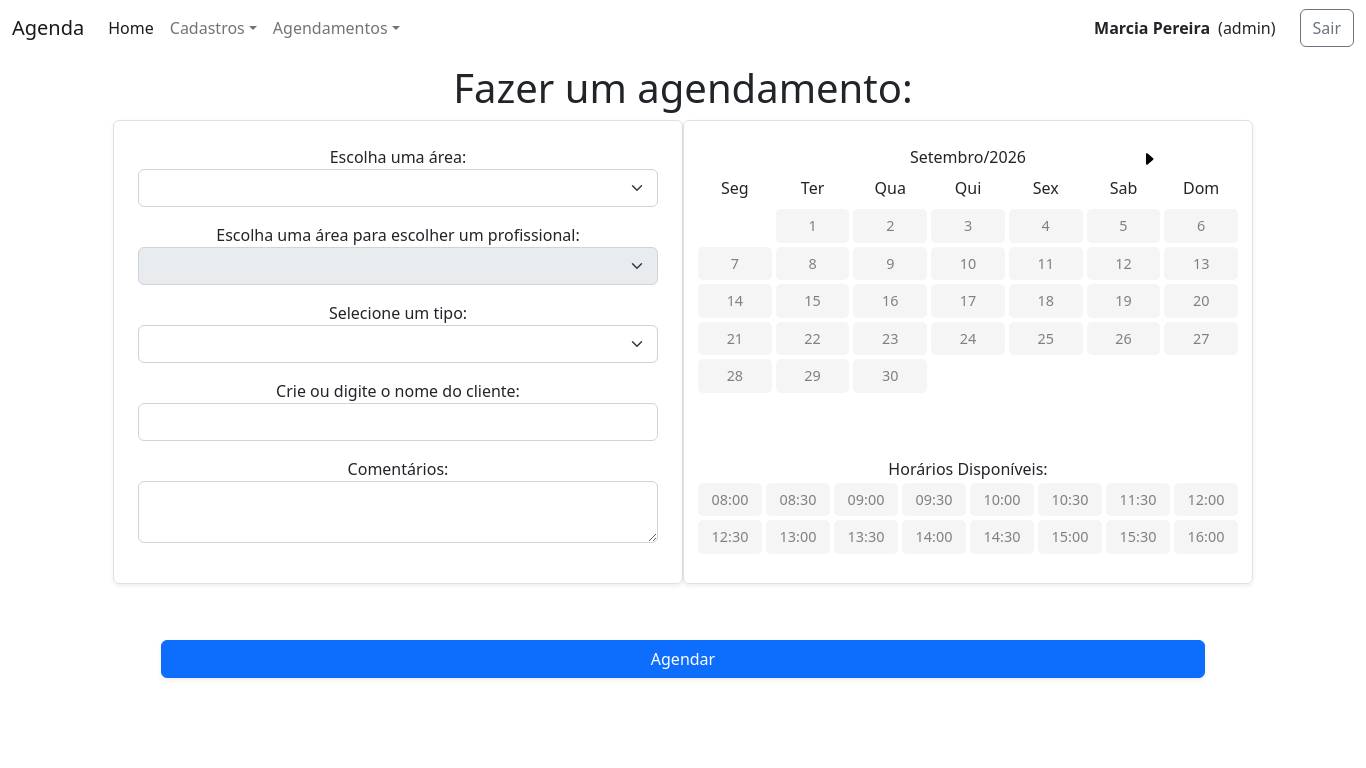
Scenario: template spec › Should display error messages when trying to save a professional
Click the button "Agendar".
click(683, 659)  # box [161,640,1205,678]
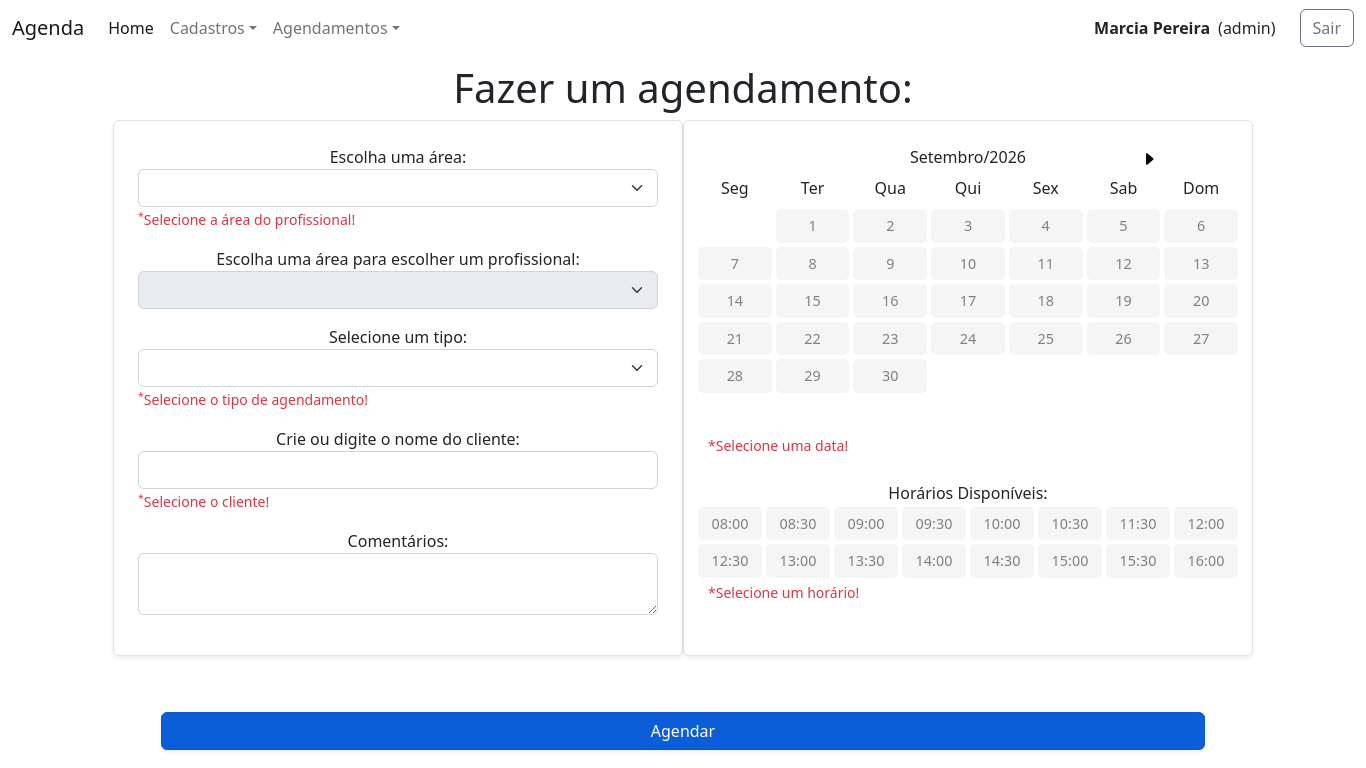
Check: the text "Selecione a área do profissional!" is shown, box [144,210,355,229]
Check: the text "Selecione o tipo de agendamento!" is shown, box [144,390,368,409]
Check: the text "Selecione o cliente!" is shown, box [144,492,269,511]
